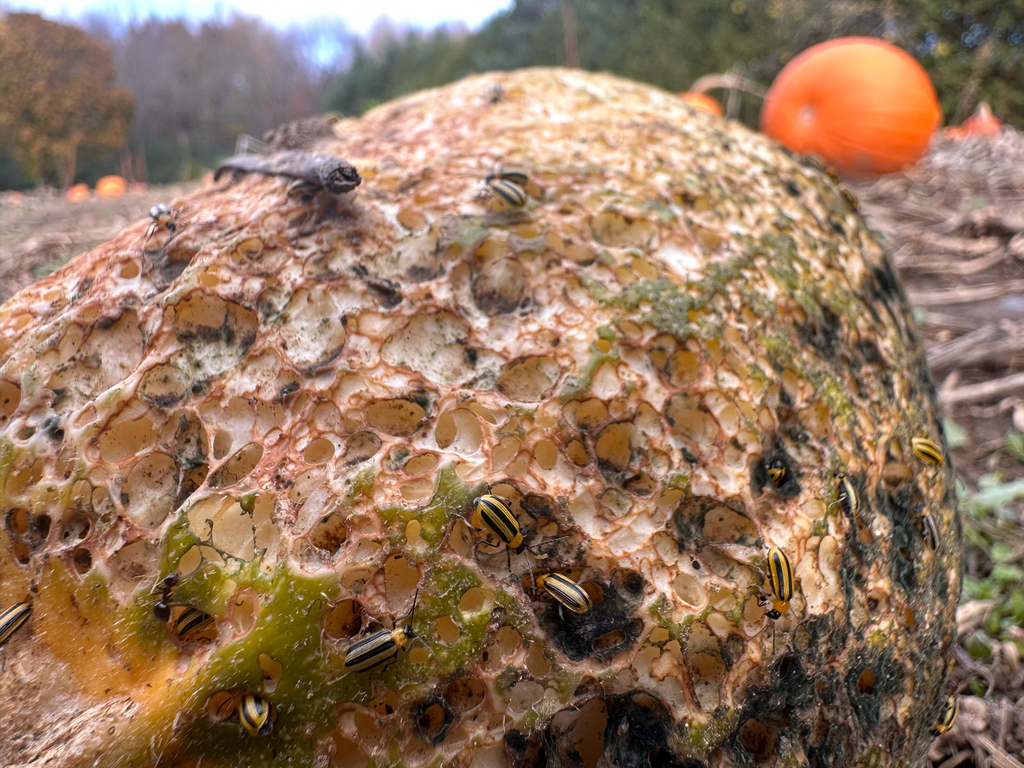potato_beetle: (317, 565, 449, 708), (520, 546, 612, 642)
